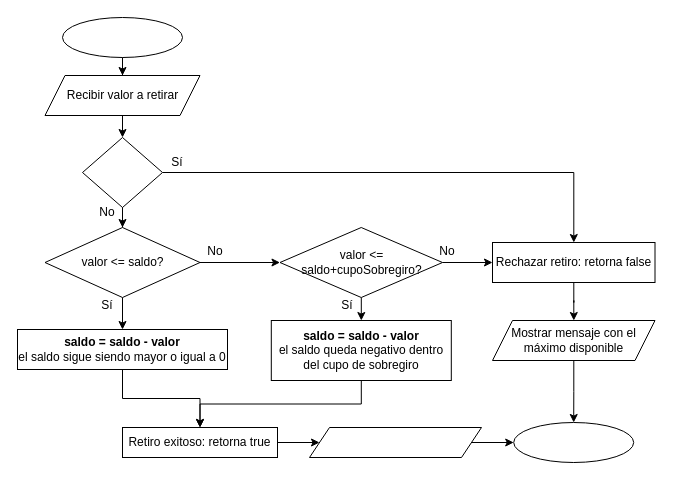
This 673x480 diagram has some shape labels left out. The centre of each missing label's shape, as x and y in pixels:
FIN: point (573, 442)
INICIO: point (122, 37)
Mostrar saldo actualizado: point (395, 442)
valor 0?: point (122, 172)
